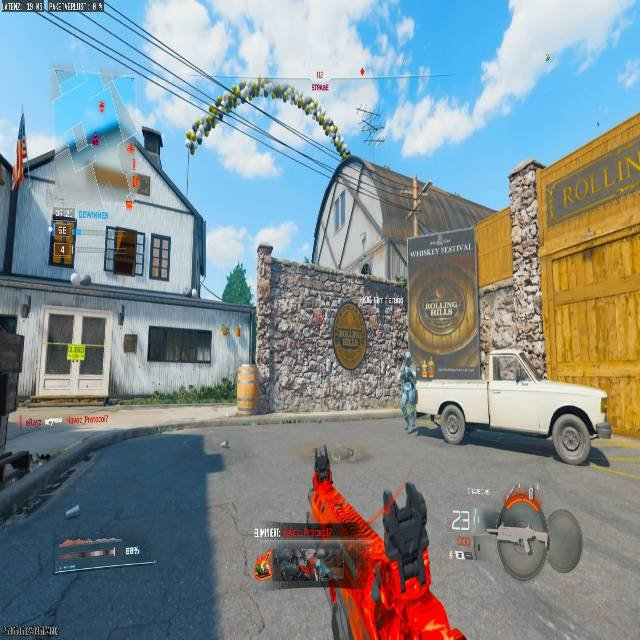head: (404, 351, 412, 362)
player: (398, 351, 420, 431)
